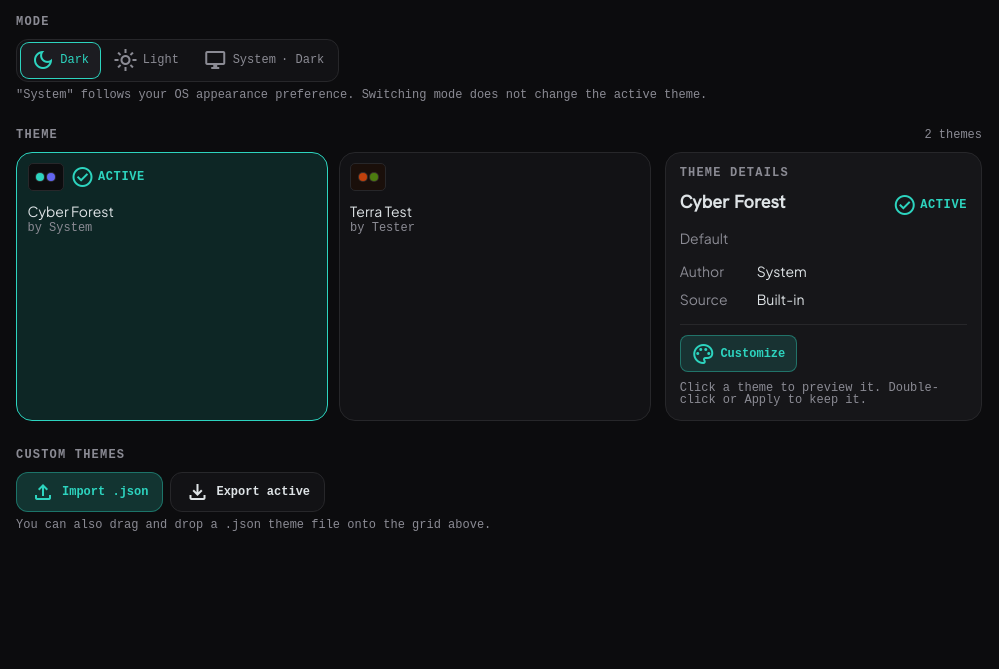
Test: AppearanceTab picker a11y (#50, #512) › two-stage preview (#512) › single-click stages a preview: injects tokens and shows the banner
Click the button "Terra Test by Tester" at (368, 177), box [339,152,651,421]
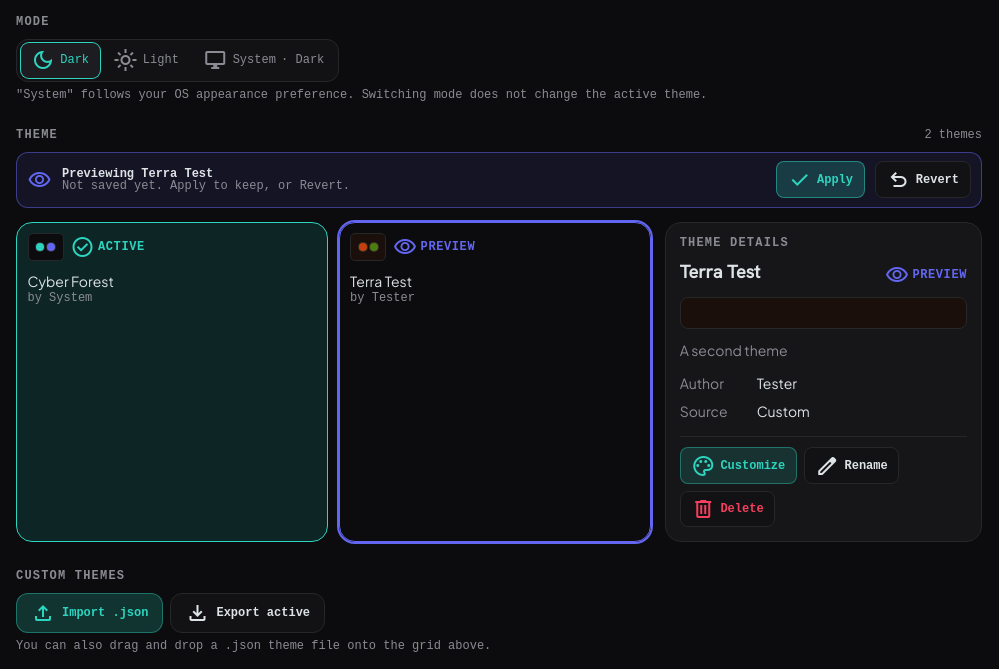
Check: the message shows "Previewing Terra Test", box [62,166,213,180]
